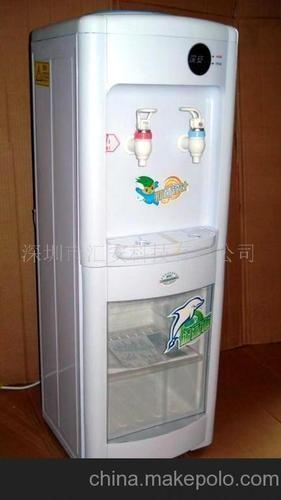Dispenser: (28, 8, 239, 449)
